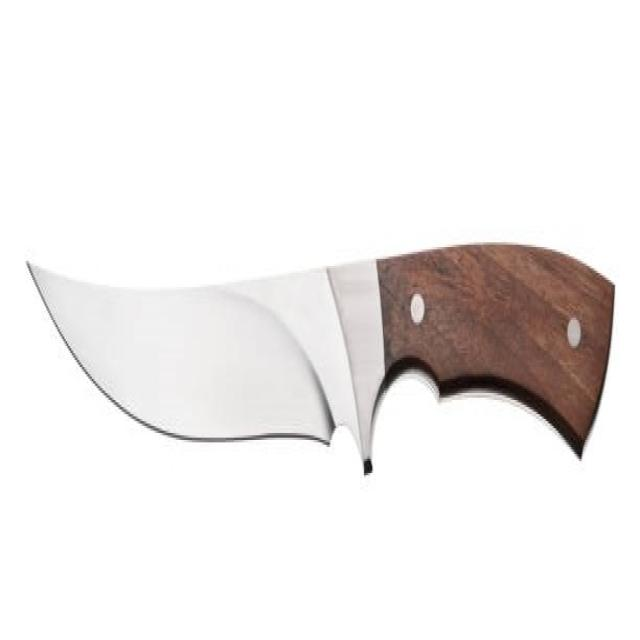knife: (20, 241, 618, 493)
